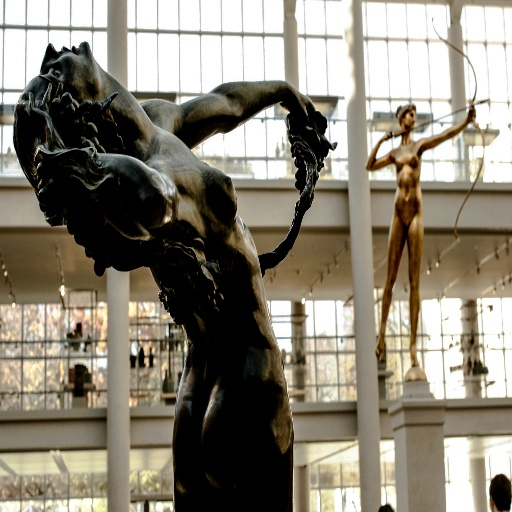hand: (32, 145, 68, 194), (278, 83, 315, 119), (463, 101, 476, 122), (381, 129, 393, 141)
